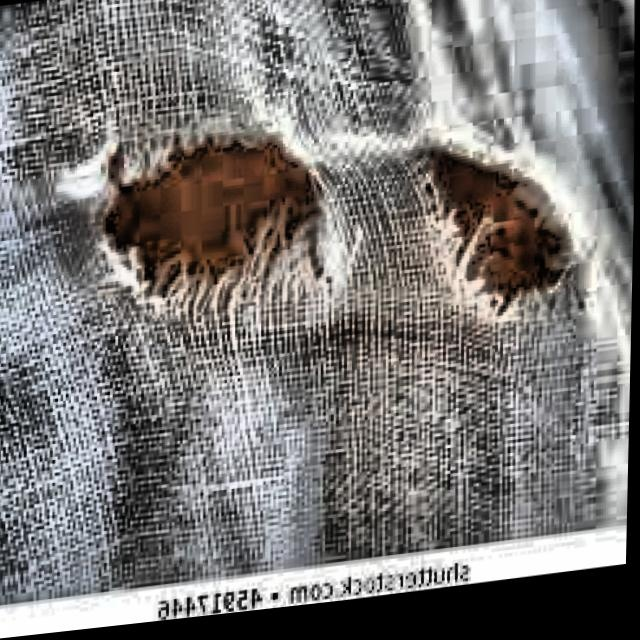Hole: (26, 74, 384, 357), (380, 109, 611, 365)
